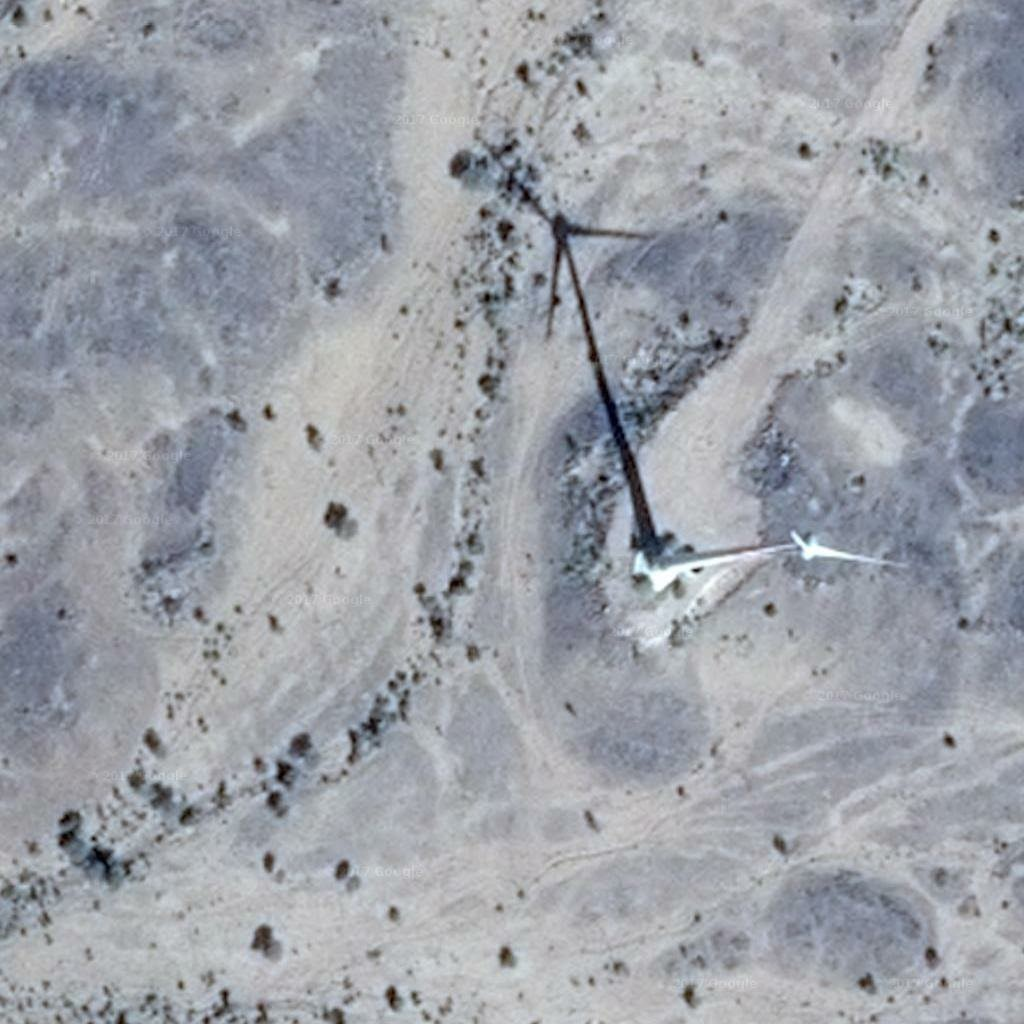Windmill: (489, 145, 693, 560)
